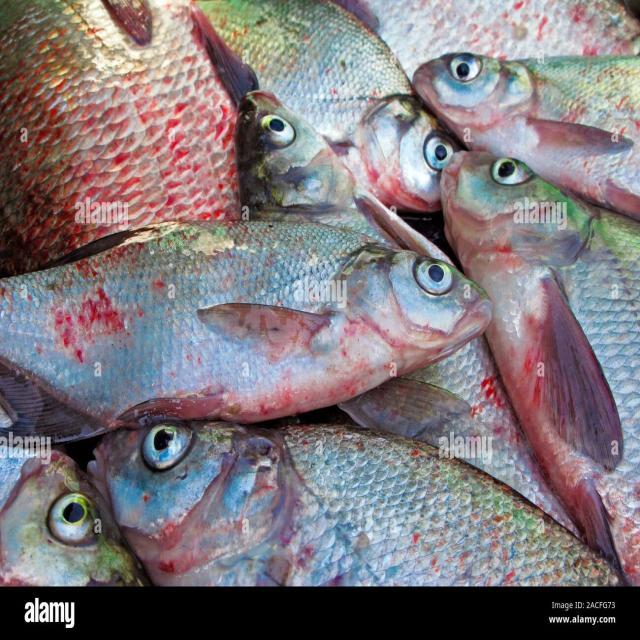EUS Disease: (3, 4, 640, 586), (0, 0, 244, 235), (305, 434, 609, 583), (208, 239, 406, 419), (89, 458, 357, 582), (466, 348, 616, 536), (488, 54, 640, 195), (28, 258, 186, 388), (246, 18, 386, 114), (385, 0, 622, 55)
